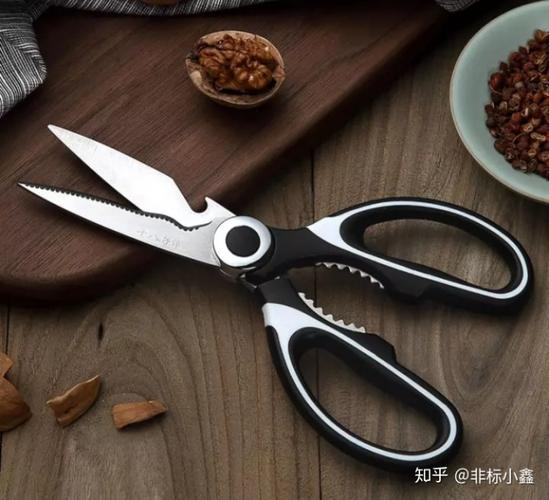scissor: (18, 124, 534, 464)
